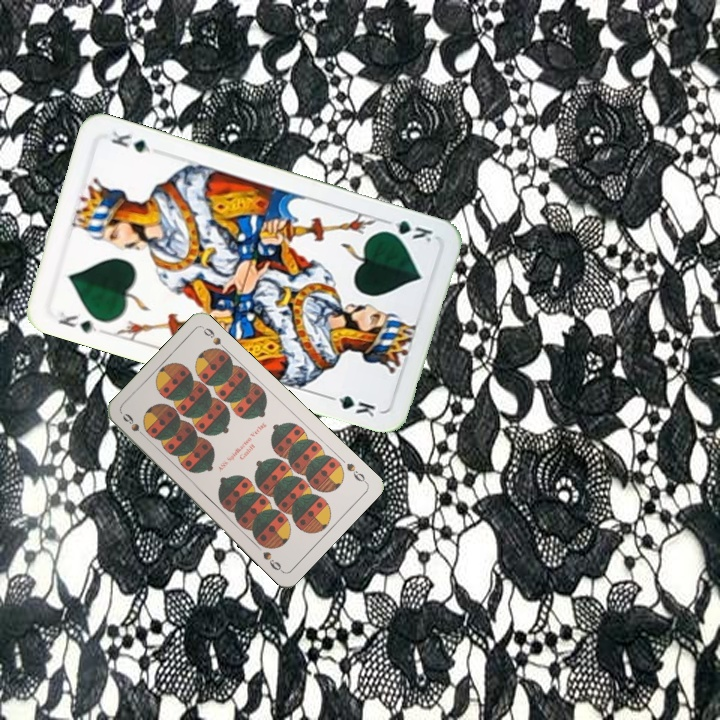GK: (377, 215, 435, 245), (54, 307, 100, 336)
S9: (118, 409, 151, 442), (342, 459, 370, 486)
